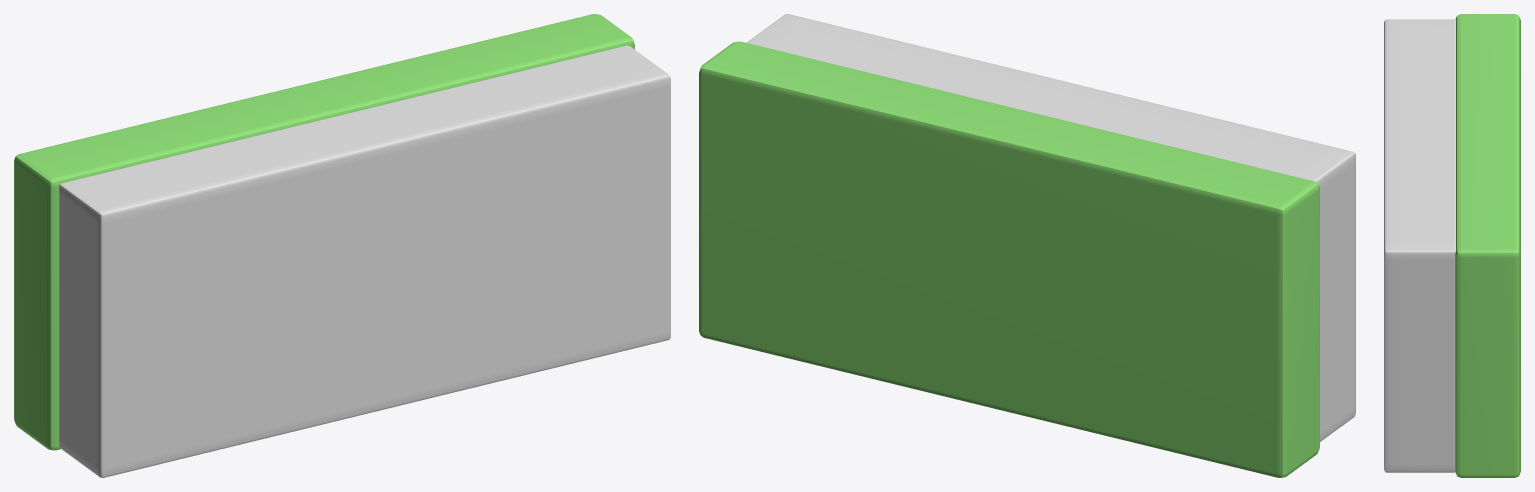
File: jp_exit.fbx
3 views of the same model, side by side, from view 1: azimuth 30°, elevation 25°; view 2: azimuth 150°, elevation 25°; view 3: azimuth 270°, elevation 25° (orthographic). The views are drawn at different scales.
Visible parts, largest first — view 1: dernier:EXITvitre_protection, dernier:panneauEXIT; view 2: dernier:panneauEXIT, dernier:EXITvitre_protection; view 3: dernier:EXITvitre_protection, dernier:panneauEXIT.
Boxes of the visible parts, x1=… form: dernier:EXITvitre_protection: x1=59, y1=45, x2=670, y2=477; dernier:panneauEXIT: x1=14, y1=14, x2=634, y2=450; dernier:panneauEXIT: x1=699, y1=41, x2=1319, y2=477; dernier:EXITvitre_protection: x1=746, y1=14, x2=1355, y2=441; dernier:EXITvitre_protection: x1=1384, y1=19, x2=1455, y2=472; dernier:panneauEXIT: x1=1455, y1=14, x2=1520, y2=477.
Bounding box in the file's own units: 1.45 × 0.6419 × 0.3479.
